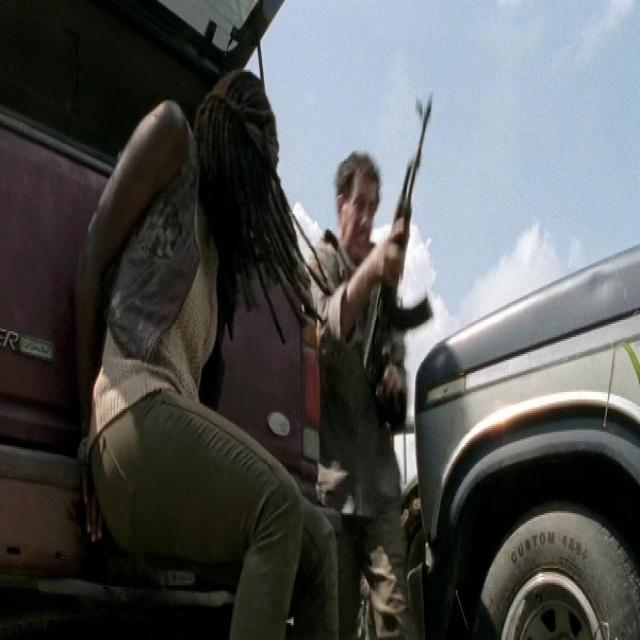rifle: (355, 86, 439, 410)
